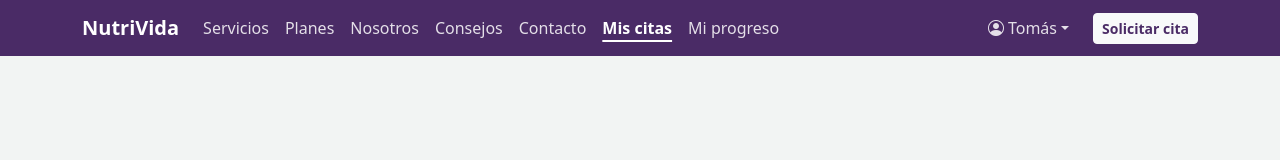
Test: Navbar › el menú de usuario permite cerrar la sesión
The width and height of the screenshot is (1280, 160).
What coordinates should you click on to do the following:
click the button "Tomás"
I would click on:
 (1028, 28)
Its box is [980,8,1077,48].
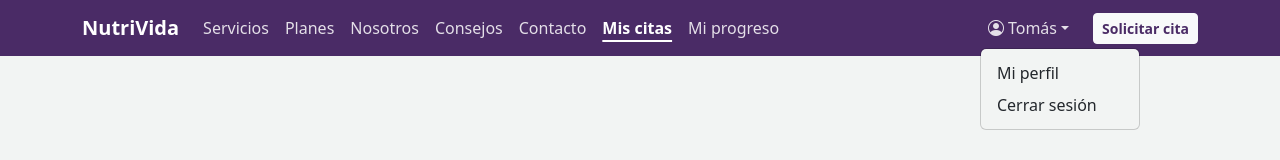
What coordinates should you click on to do the following:
click the button "Cerrar sesión"
I would click on:
 (1060, 105)
Its box is [981,89,1139,121].
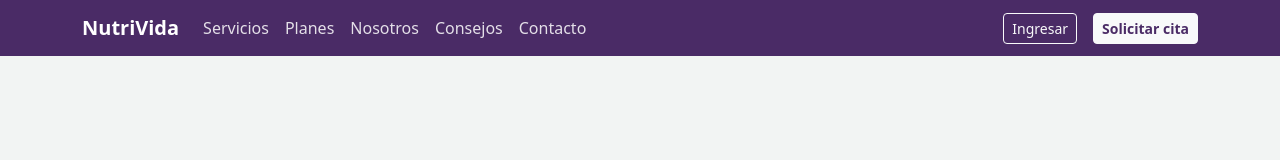
Now the link "Ingresar" is shown, box [1003,12,1077,44]
